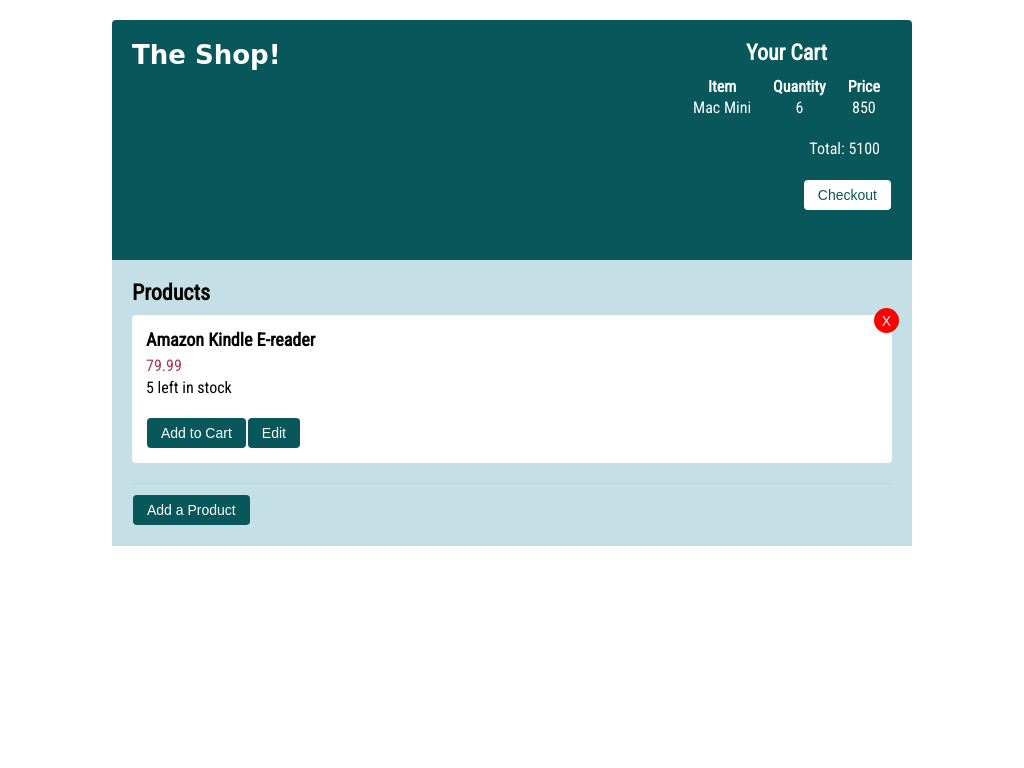
Test case: adding a product
This screenshot has width=1024, height=768.
Click the button "Add a Product" at (191, 510), box [133, 495, 250, 525]
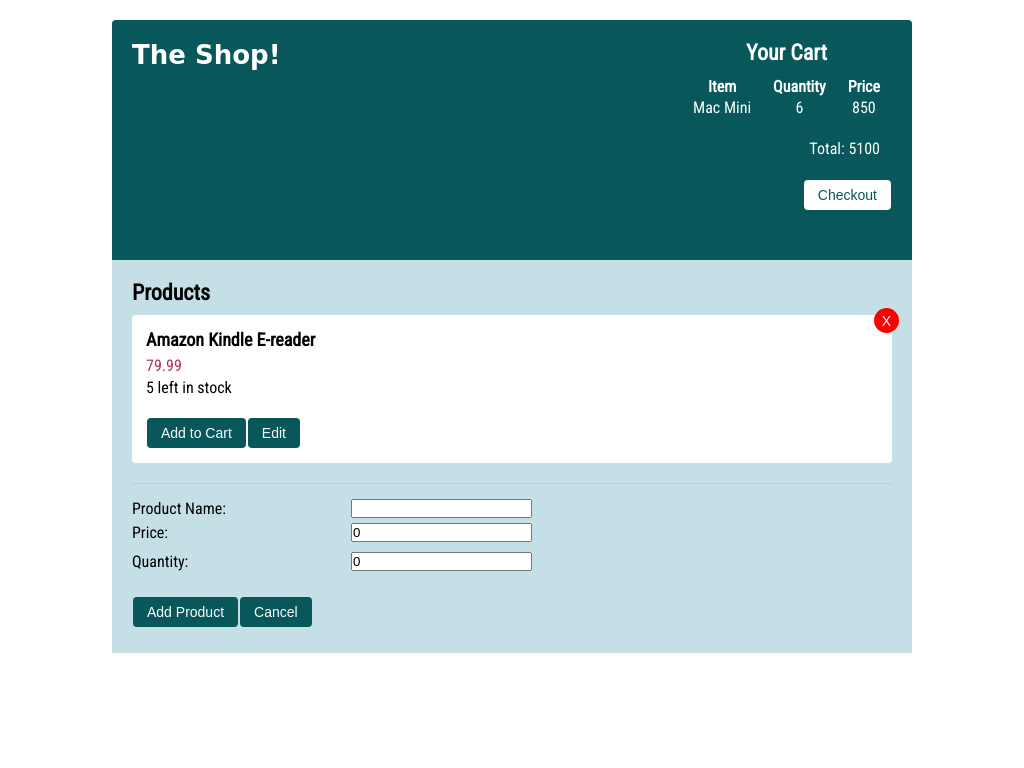
Check: the heading "Keyboard" is not shown
Type "Keyboard" into the field labelled "Product Name:" at (442, 508), box [351, 499, 532, 518]
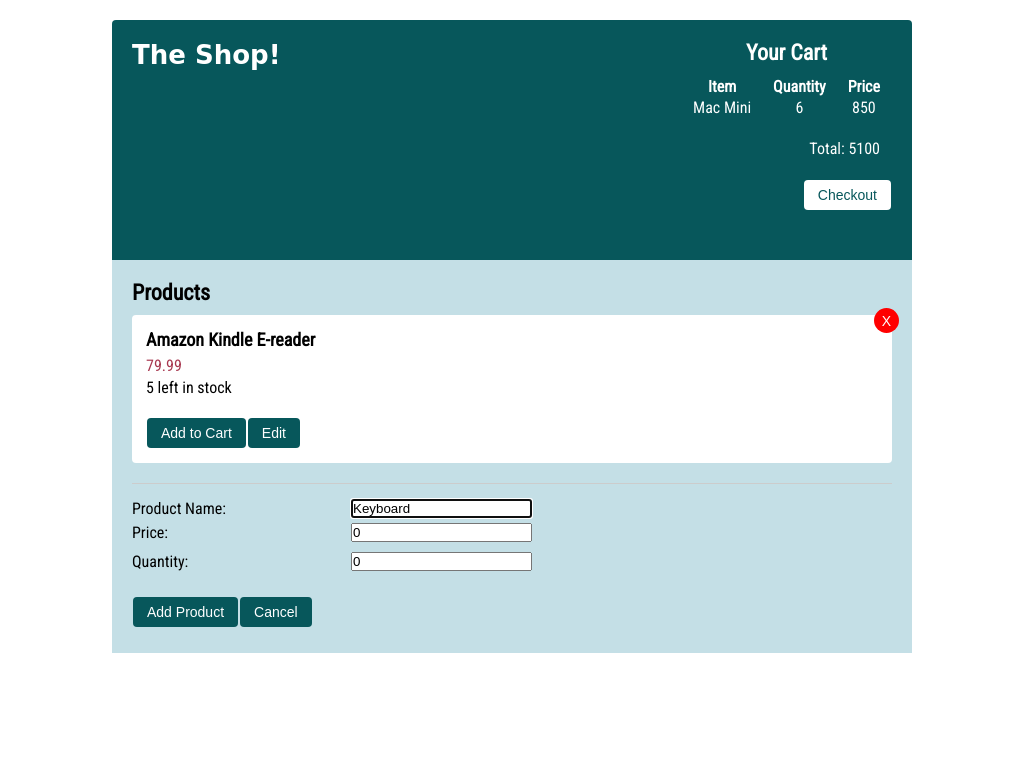
Type "3" into the number field labelled "Price:" at (442, 532), box [351, 523, 532, 542]
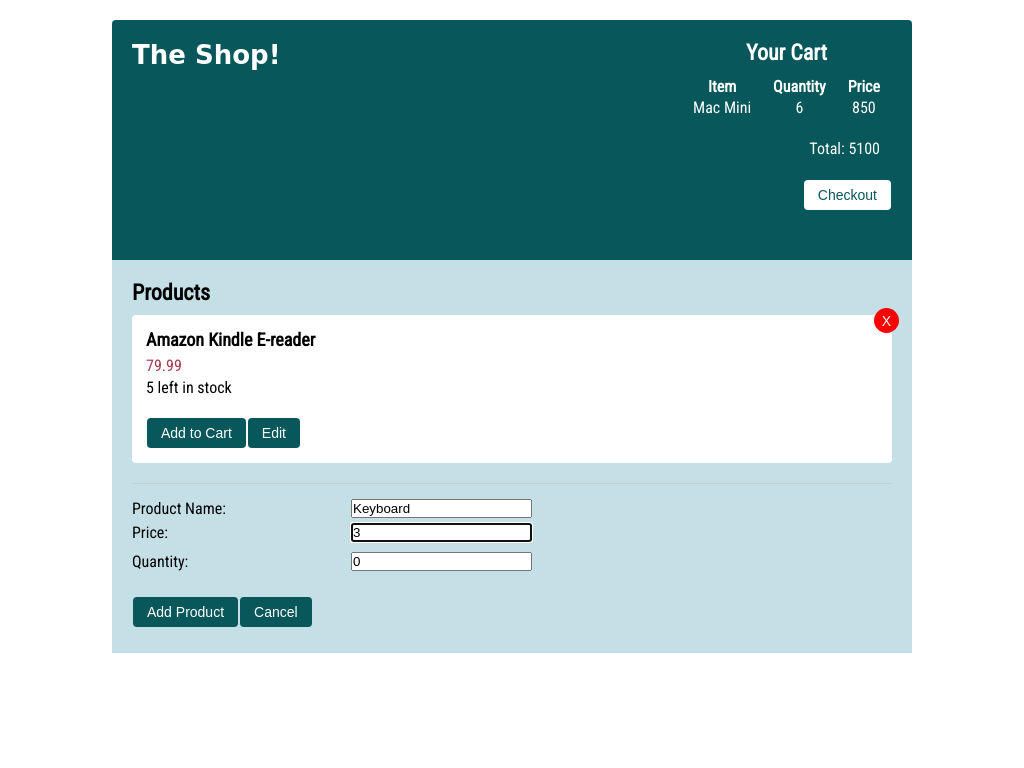
Type "50" into the number field labelled "Quantity:" at (442, 562), box [351, 552, 532, 571]
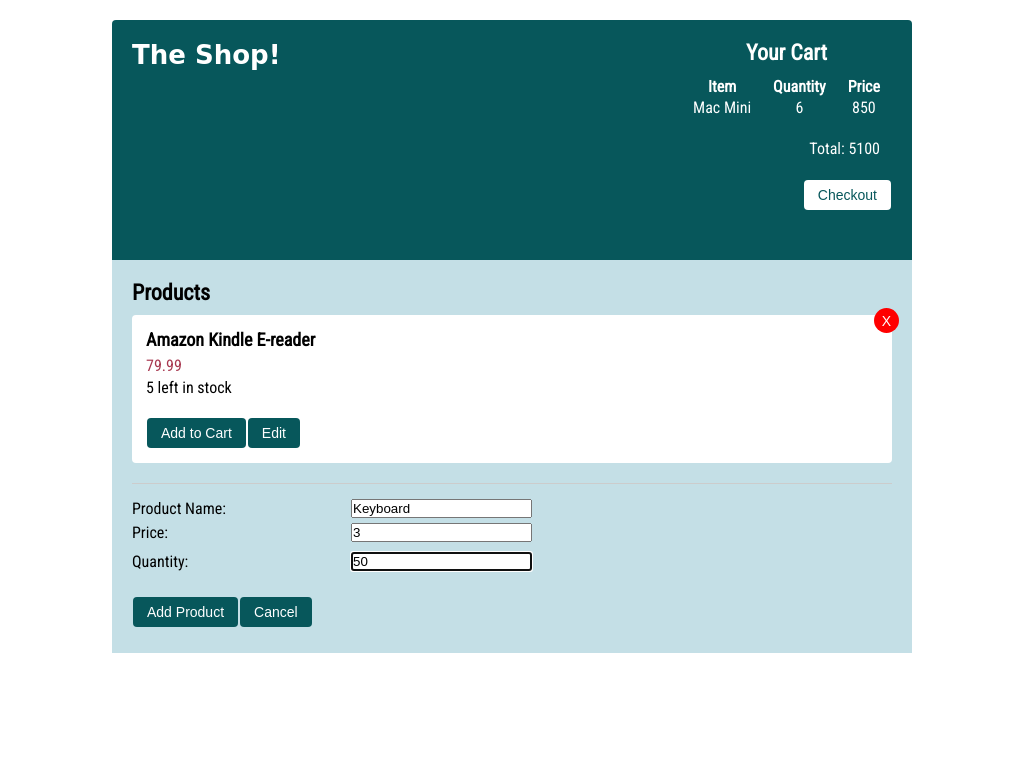
// submit the form
Click the button "Add Product" at (186, 612), box [133, 597, 238, 627]
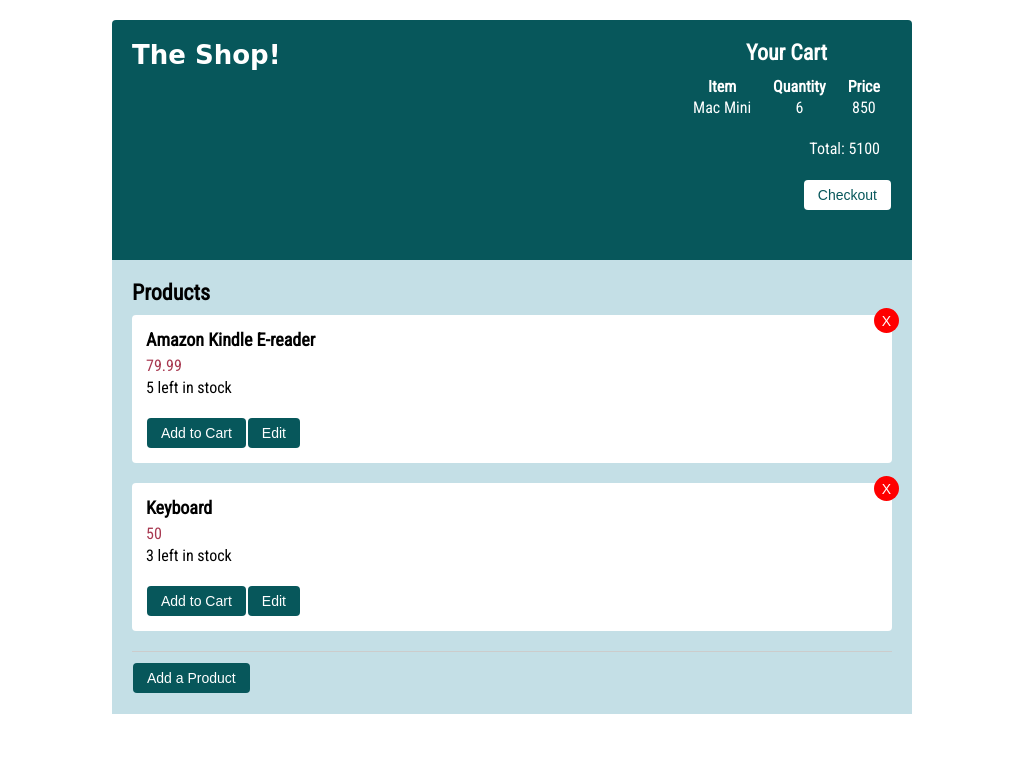
Check: the heading "Keyboard" is shown, box [146, 497, 212, 518]
